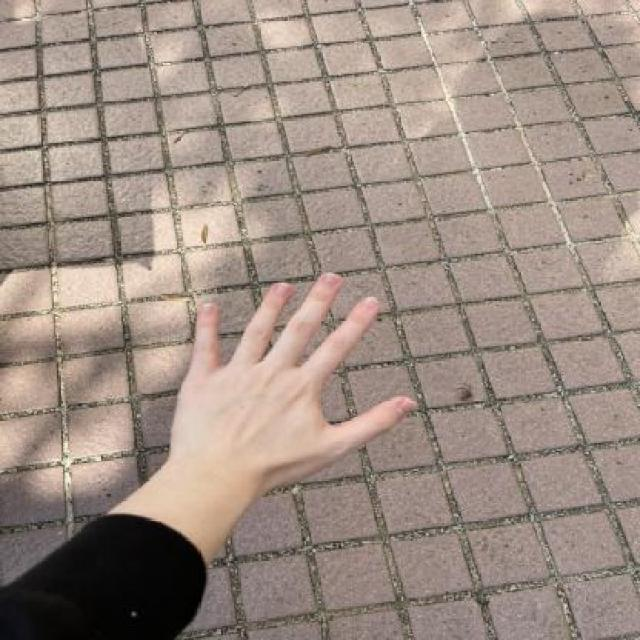hand: (154, 258, 433, 511)
